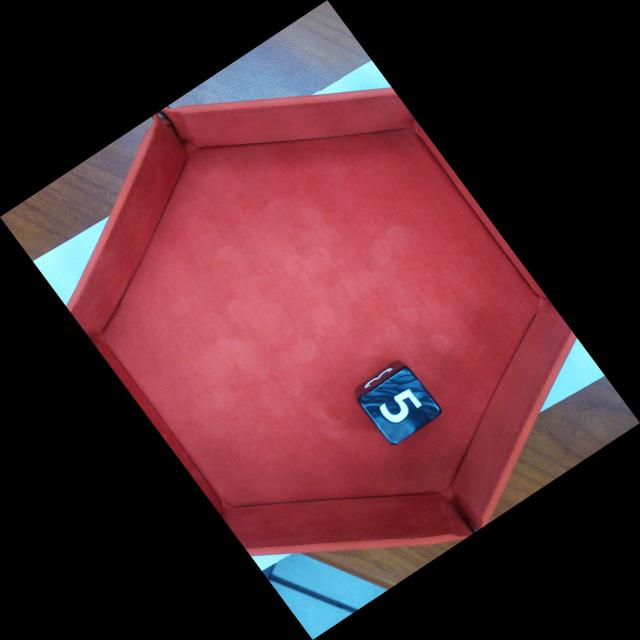dice: (355, 363, 445, 450)
